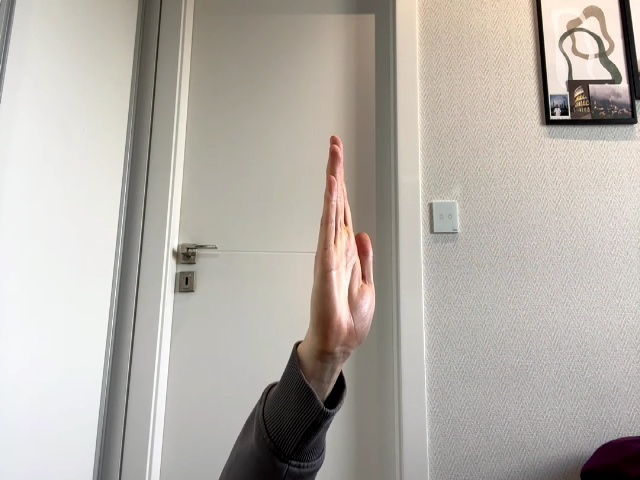SZ: (311, 136, 375, 356)
